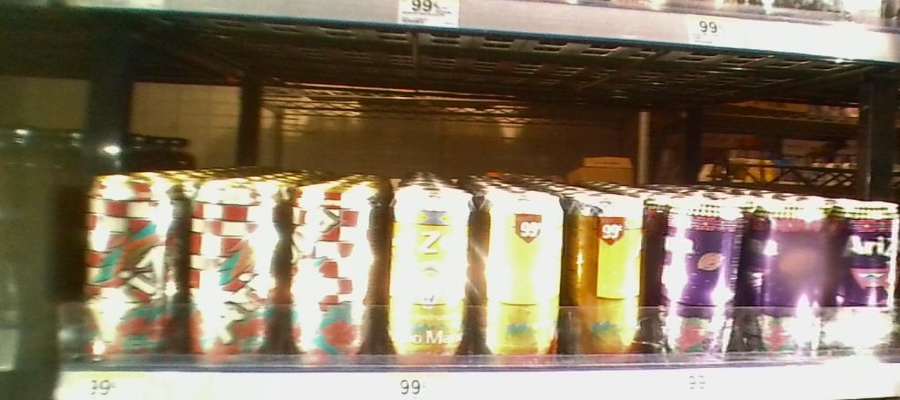bottle: (83, 164, 186, 368), (283, 169, 383, 371), (188, 169, 283, 373), (475, 169, 567, 364), (385, 171, 475, 366), (654, 179, 744, 366), (567, 163, 648, 359), (750, 187, 835, 361), (833, 193, 900, 357)
